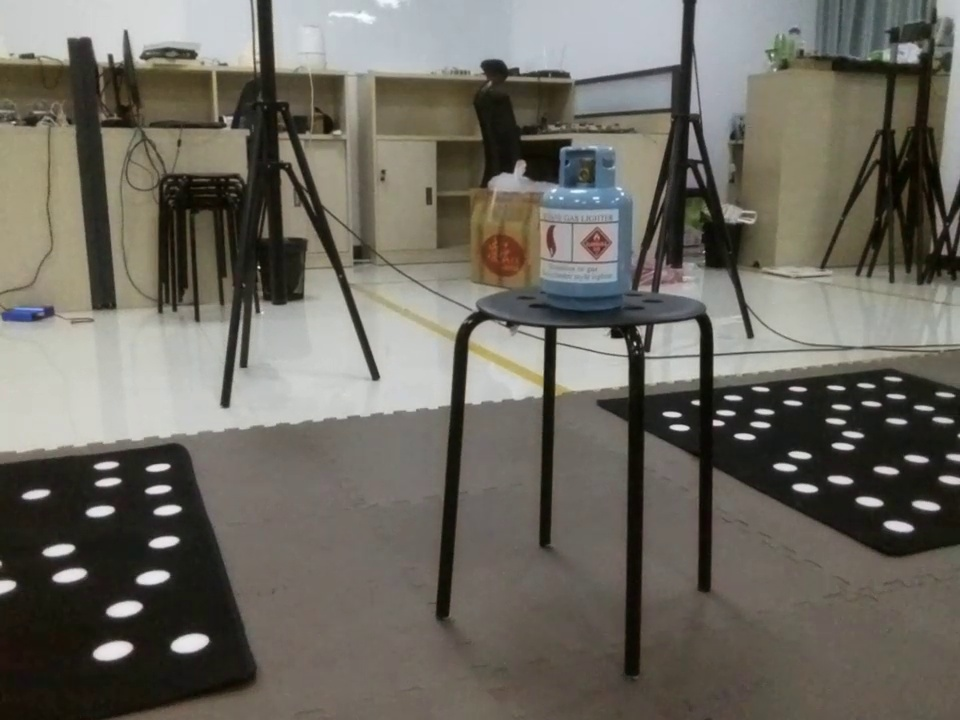gas tank: (536, 142, 639, 318)
